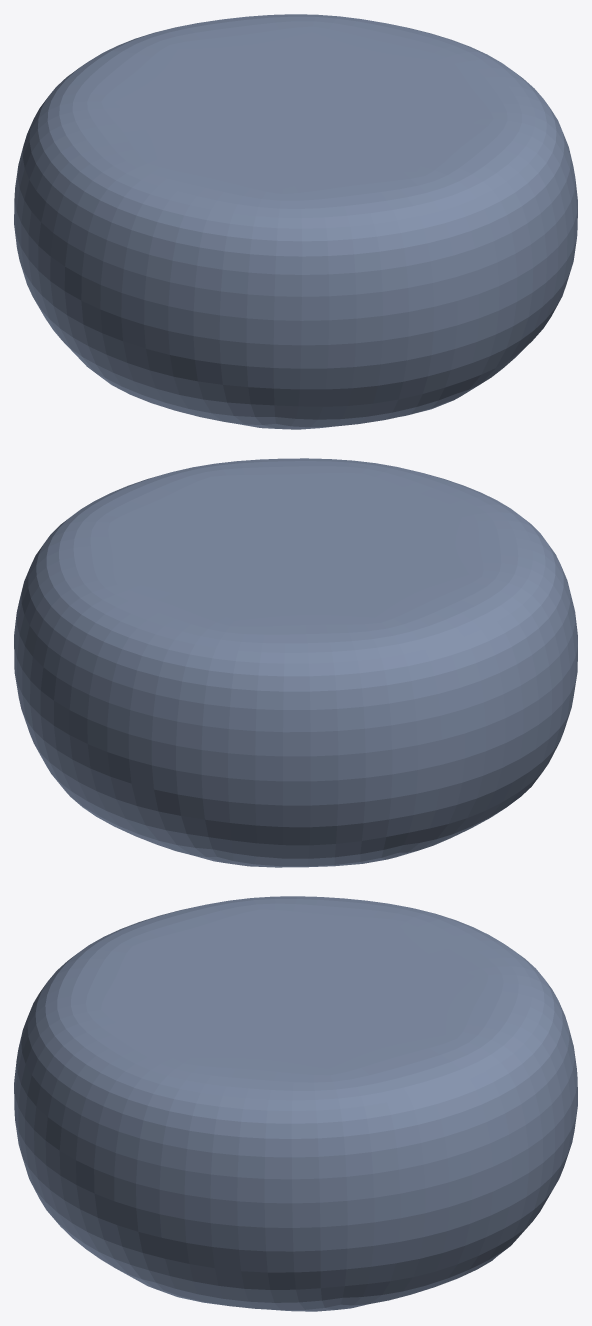
3 views of the same model, one above another, from view 1: azimuth 30°, elevation 25°; view 2: azimuth 150°, elevation 25°; view 3: azimuth 270°, elevation 25° (orthographic).
Visible parts, largest first — view 1: Cylinder.001; view 2: Cylinder.001; view 3: Cylinder.001.
Boxes of the visible parts, bbox=[...] form: Cylinder.001: bbox=[14, 14, 577, 429]; Cylinder.001: bbox=[14, 458, 577, 867]; Cylinder.001: bbox=[14, 896, 577, 1311].
Bounding box in the file's own units: 0.00772 × 0.0041 × 0.00773.
